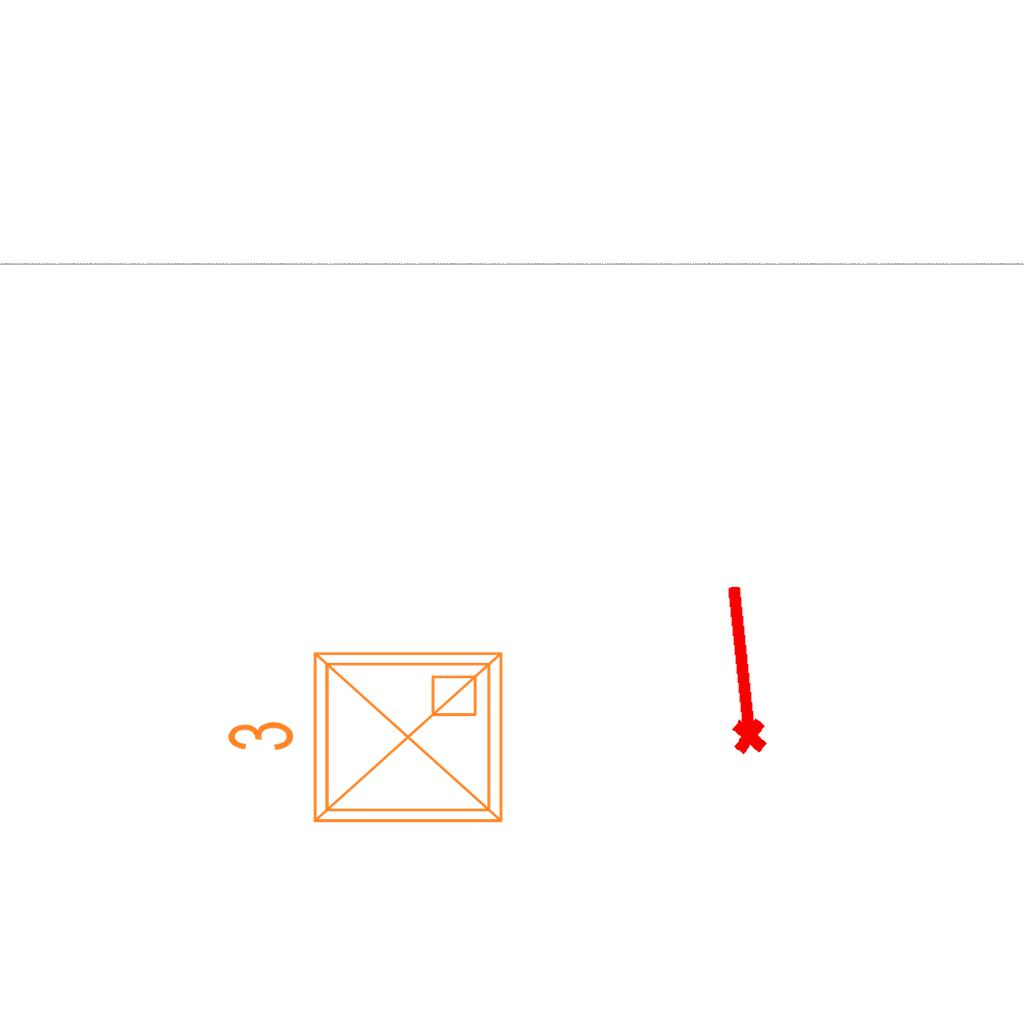ASR_Ansaugoeffnung: (707, 579, 773, 759)
Einbaudownlights_LED_Konferenzraeume: (217, 637, 517, 845)
